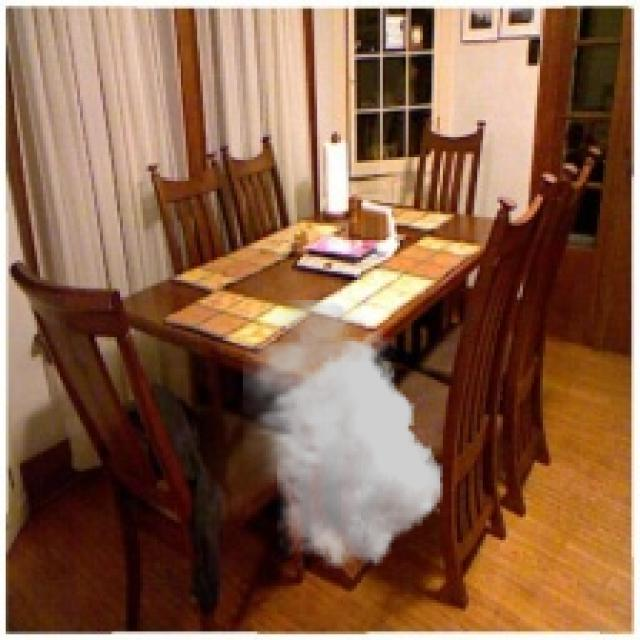smoke: (243, 300, 443, 569)
